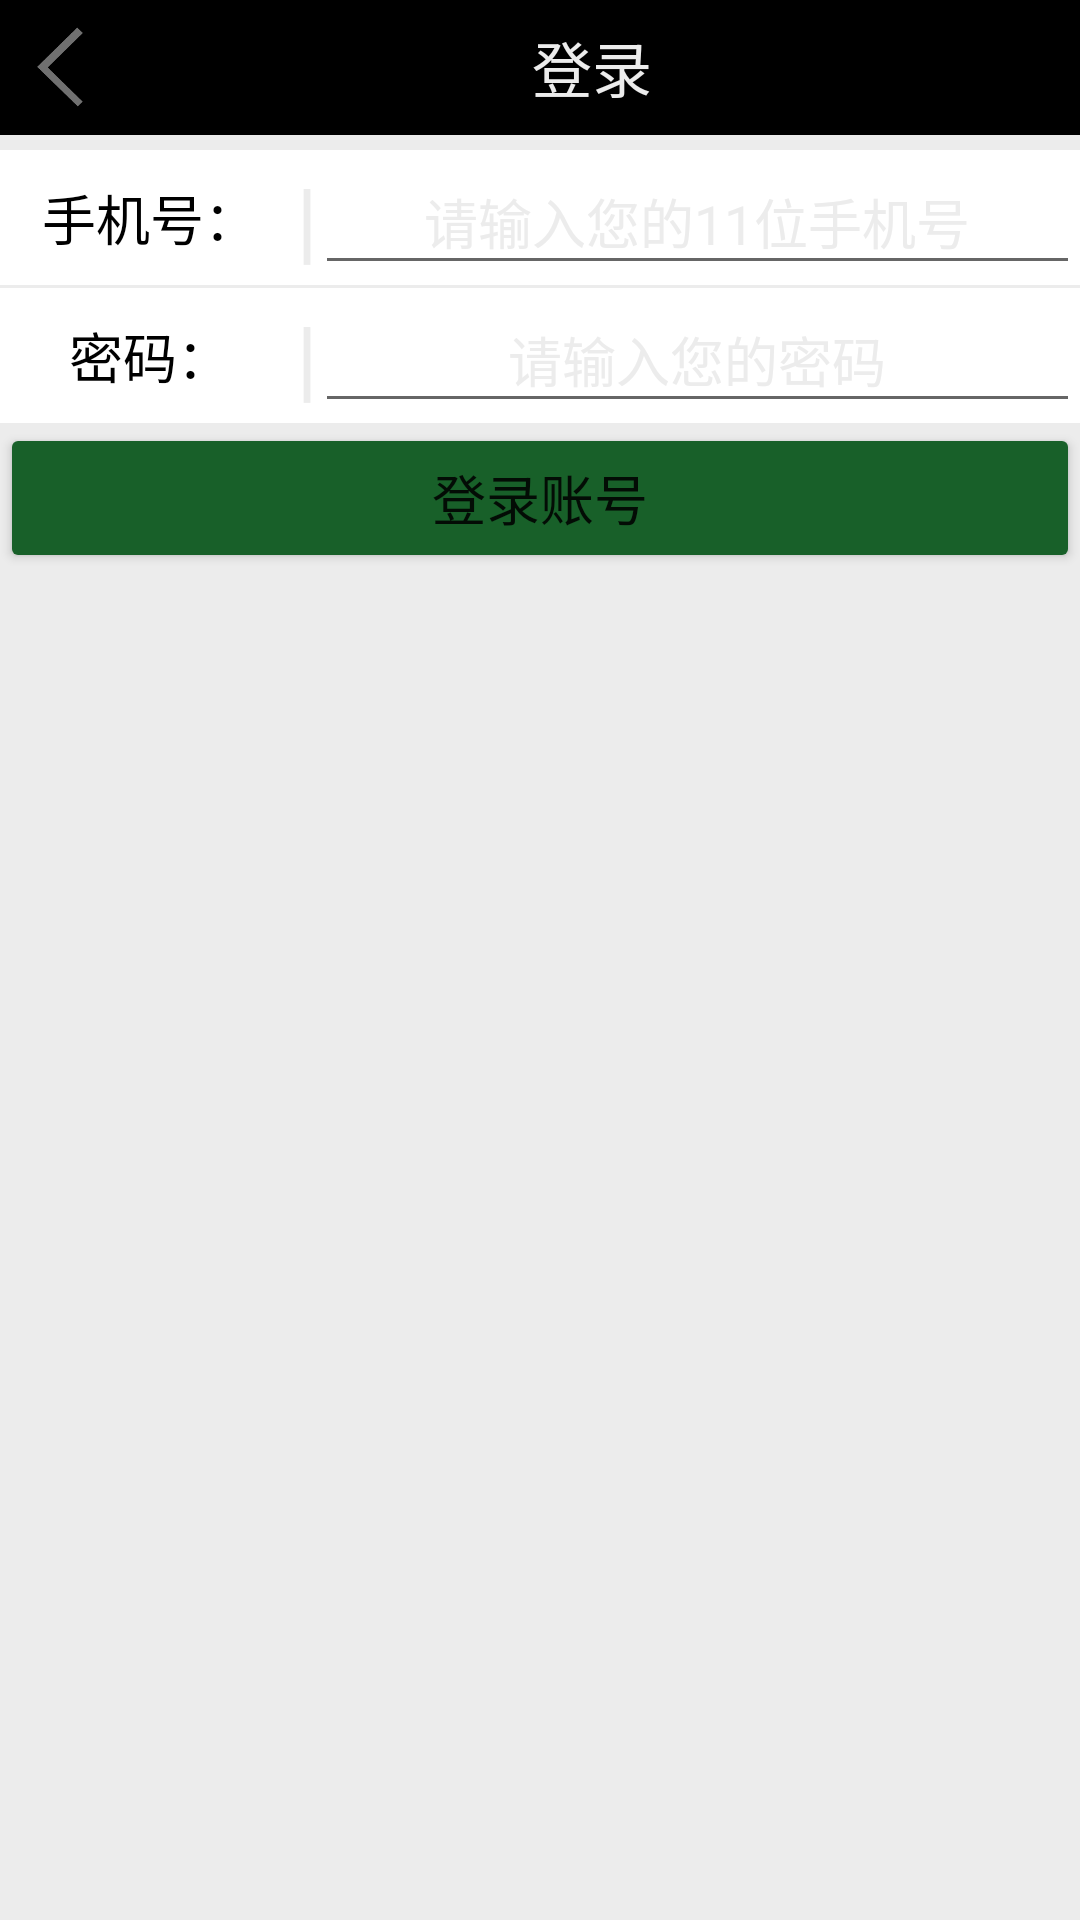

Icon bounding boxes for this 1080 x 1920 phone screenshot, format (x1, y1, x2, y2):
leftdir: (37, 28, 83, 106)
